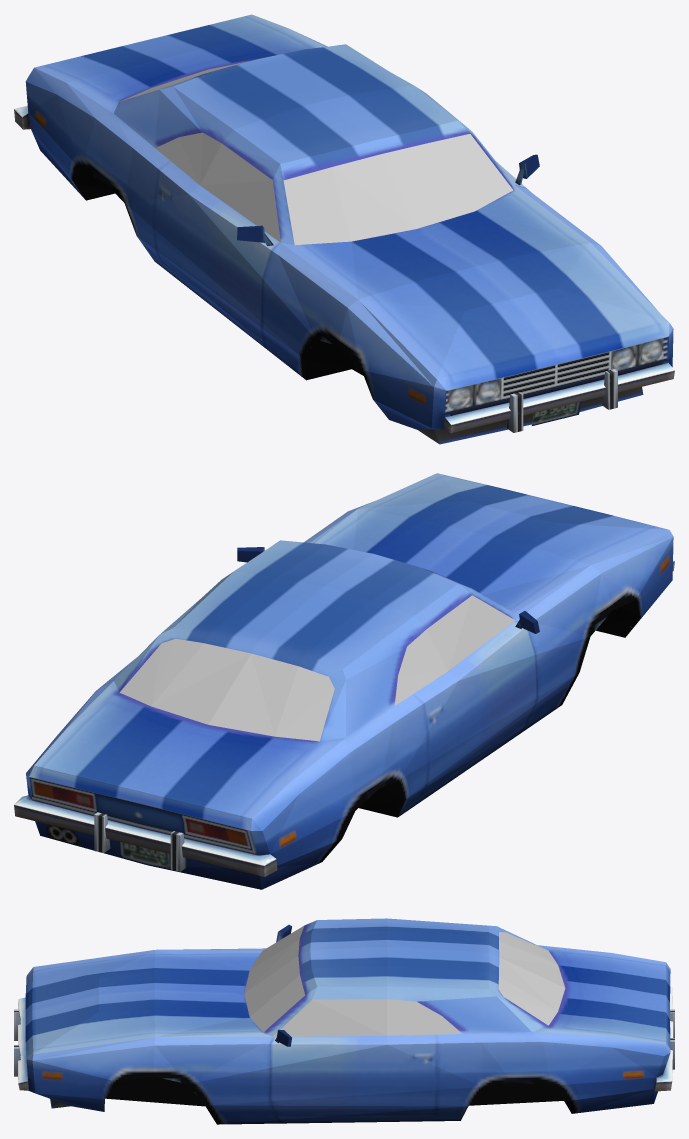
File: carC.obj
3 views of the same model, one above another, from view 1: azimuth 30°, elevation 25°; view 2: azimuth 150°, elevation 25°; view 3: azimuth 270°, elevation 25° (orthographic). The views are drawn at different scales.
Bounding box in the file's own units: 0.8603 × 0.4561 × 2.11.
